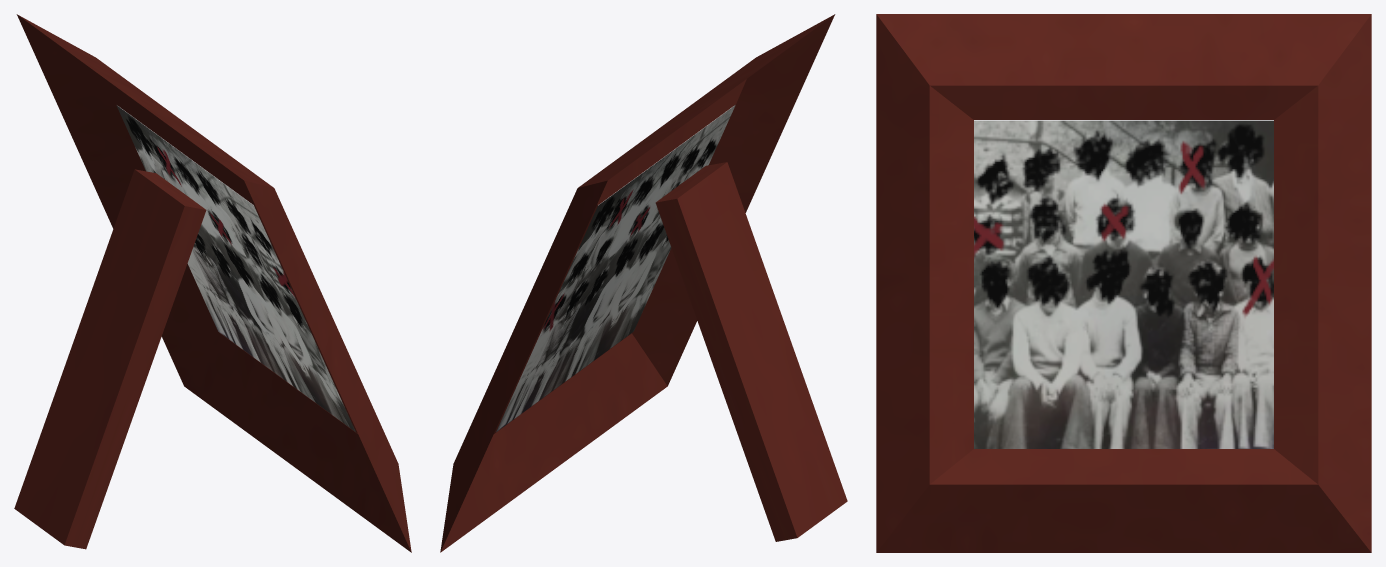
The model's file is Cuadro6.fbx.
3 renders of one model, left to right at view 1: azimuth 30°, elevation 25°; view 2: azimuth 150°, elevation 25°; view 3: azimuth 270°, elevation 25°, orthographic. The views are drawn at different scales.
Visible parts, largest first — view 1: Cuadro.006; view 2: Cuadro.006; view 3: Cuadro.006.
Part boxes in pixels (bbox=[...]): Cuadro.006: bbox=[14, 14, 411, 552]; Cuadro.006: bbox=[440, 14, 847, 552]; Cuadro.006: bbox=[876, 14, 1371, 552].
Bounding box in the file's own units: 23.08 × 33.16 × 33.08.
